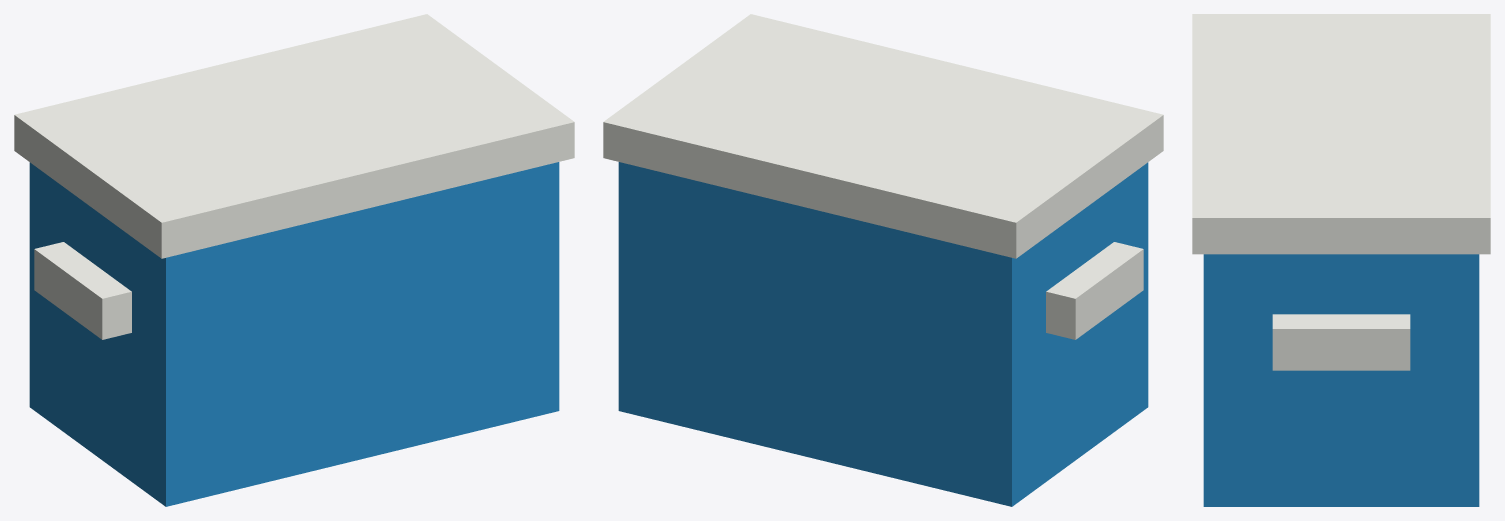
The model's file is TR_Cooler_IceBox.glb.
The picture shows the model from 3 angles, left to right: view 1: azimuth 30°, elevation 25°; view 2: azimuth 150°, elevation 25°; view 3: azimuth 270°, elevation 25°; orthographic projection.
Visible parts, largest first — view 1: TR_Cooler_IceBox; view 2: TR_Cooler_IceBox; view 3: TR_Cooler_IceBox.
Part boxes in pixels (left/top/right/bottom): TR_Cooler_IceBox: left=14, top=14, right=574, bottom=506; TR_Cooler_IceBox: left=603, top=14, right=1163, bottom=506; TR_Cooler_IceBox: left=1192, top=14, right=1490, bottom=506.
Size of the model in its own units: 0.92 by 0.565 by 0.52.
